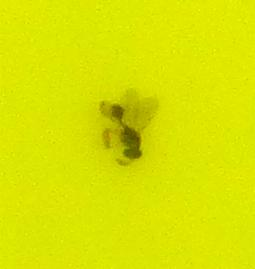Hymenoptera: (100, 100, 155, 169)
